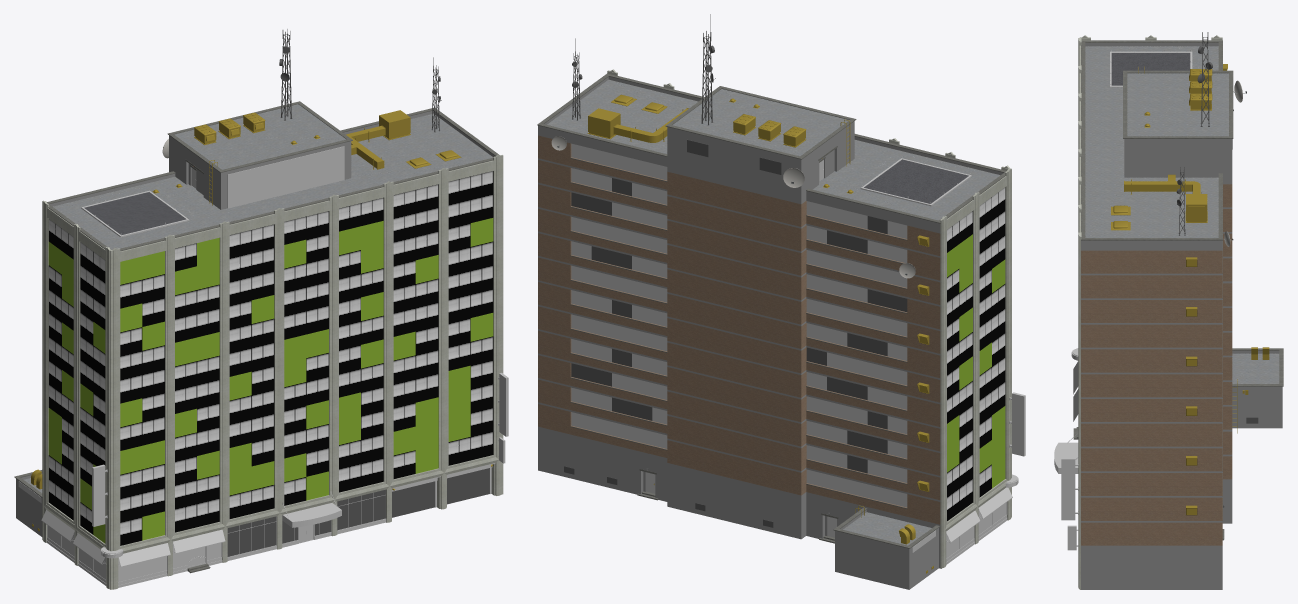
Rendered from mcp_building_07_LOD_0.FBX.
The picture shows the model from 3 angles, left to right: view 1: azimuth 30°, elevation 25°; view 2: azimuth 150°, elevation 25°; view 3: azimuth 270°, elevation 25°; orthographic projection. The views are drawn at different scales.
Parts seen in each view (by area): view 1: mcp_building_07_windows, mcp_building_07_03, mcp_building_07_roof, mcp_building_07_01, mcp_building_07_02, mcp_building_07_concrete, mcp_building_07_props_03, mcp_building_07_props_02, mcp_building_07_glass, mcp_building_07_helipad_concrete; view 2: mcp_building_07_02, mcp_building_07_01, mcp_building_07_roof, mcp_building_07_windows, mcp_building_07_concrete, mcp_building_07_03, mcp_building_07_props_02, mcp_building_07_helipad_concrete, mcp_building_07_props_03, mcp_building_07_props_01, mcp_satellite_dish; view 3: mcp_building_07_02, mcp_building_07_roof, mcp_building_07_concrete, mcp_building_07_props_02, mcp_building_07_01, mcp_building_07_03, mcp_building_07_helipad_concrete, mcp_building_07_props_03, mcp_building_07_helipad001.
Boxes of the visible parts, <box> form: mcp_building_07_windows: <box>48,171,493,545</box>; mcp_building_07_03: <box>42,154,503,589</box>; mcp_building_07_roof: <box>24,104,492,492</box>; mcp_building_07_01: <box>18,146,508,587</box>; mcp_building_07_02: <box>16,111,495,536</box>; mcp_building_07_concrete: <box>14,101,498,573</box>; mcp_building_07_props_03: <box>279,29,489,517</box>; mcp_building_07_props_02: <box>31,110,493,531</box>; mcp_building_07_glass: <box>227,490,385,556</box>; mcp_building_07_helipad_concrete: <box>84,192,185,235</box>; mcp_building_07_02: <box>538,76,1003,589</box>; mcp_building_07_01: <box>571,143,1025,564</box>; mcp_building_07_roof: <box>547,79,1000,545</box>; mcp_building_07_windows: <box>947,187,1005,521</box>; mcp_building_07_concrete: <box>537,73,1006,548</box>; mcp_building_07_03: <box>607,69,1011,568</box>; mcp_building_07_props_02: <box>587,94,933,573</box>; mcp_building_07_helipad_concrete: <box>864,159,968,203</box>; mcp_building_07_props_03: <box>572,14,715,125</box>; mcp_building_07_props_01: <box>564,139,830,527</box>; mcp_satellite_dish: <box>551,136,915,278</box>; mcp_building_07_02: <box>1081,43,1282,589</box>; mcp_building_07_roof: <box>1085,46,1279,383</box>; mcp_building_07_concrete: <box>1073,40,1283,540</box>; mcp_building_07_props_02: <box>1111,64,1269,515</box>; mcp_building_07_01: <box>1054,139,1124,550</box>; mcp_building_07_03: <box>1078,35,1222,589</box>; mcp_building_07_helipad_concrete: <box>1111,53,1190,85</box>; mcp_building_07_props_03: <box>1176,32,1212,235</box>; mcp_building_07_helipad001: <box>1110,51,1198,87</box>.
Bounding box in the file's own units: 6541 × 7276 × 3029.
